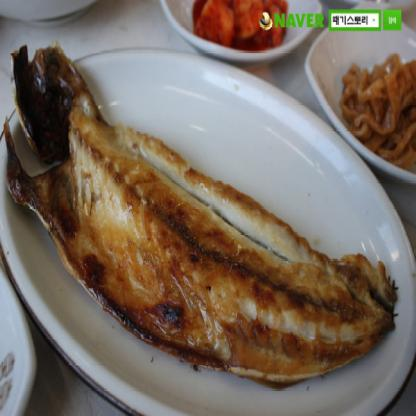Peixe: (6, 42, 395, 380)
